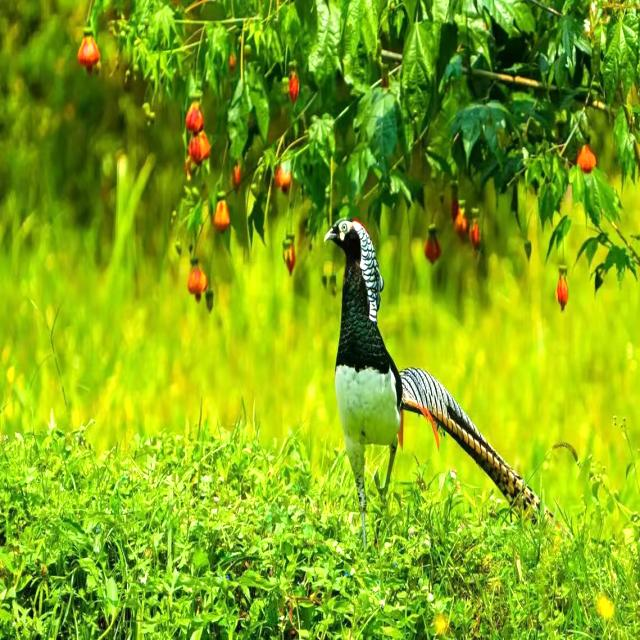Chrysolophus amherstiae: (389, 358, 539, 510)
